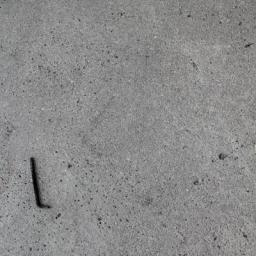FOD: (25, 156, 57, 211)
